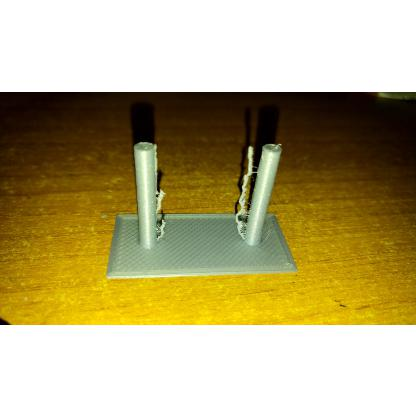fail: (235, 146, 259, 240), (156, 186, 168, 236)
